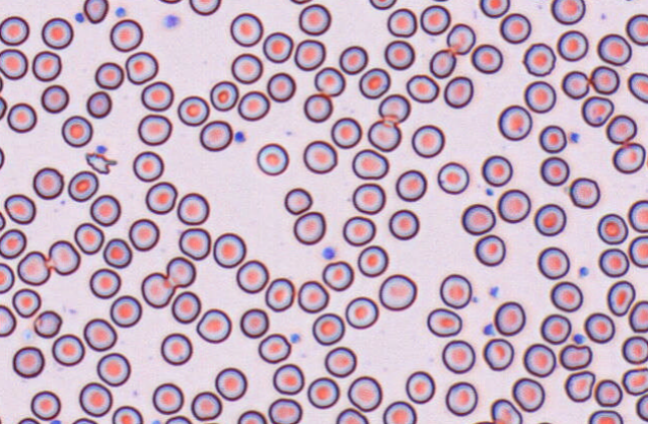PLT: (163, 14, 181, 29), (323, 245, 338, 260), (234, 129, 247, 145), (482, 322, 498, 335), (94, 143, 110, 155), (569, 130, 581, 146), (289, 333, 303, 346), (74, 12, 87, 24), (483, 186, 495, 199), (579, 264, 590, 278), (574, 333, 586, 345), (490, 286, 501, 298), (116, 8, 127, 19)
RBC: (378, 273, 416, 310), (347, 375, 382, 411), (497, 104, 532, 140), (196, 308, 231, 343), (78, 381, 112, 417), (212, 232, 246, 268), (511, 377, 545, 412), (141, 272, 174, 308), (96, 352, 130, 386), (83, 317, 117, 351), (522, 343, 556, 377), (441, 339, 475, 373), (109, 18, 143, 52), (229, 12, 263, 46), (17, 250, 50, 285), (497, 188, 530, 223), (302, 140, 337, 173), (48, 239, 80, 275), (596, 33, 632, 65), (351, 148, 388, 179), (344, 296, 378, 329), (214, 367, 247, 401), (522, 42, 555, 76), (445, 381, 477, 416), (439, 273, 471, 308), (306, 376, 339, 409), (311, 312, 344, 345), (51, 333, 84, 366), (178, 227, 211, 260), (109, 294, 142, 327), (125, 51, 158, 84), (176, 192, 209, 225), (533, 203, 566, 236), (411, 124, 444, 157), (367, 119, 401, 151), (461, 203, 495, 235), (493, 301, 525, 335), (236, 259, 268, 293), (137, 113, 171, 145), (426, 307, 462, 337), (145, 181, 177, 214), (160, 332, 192, 365), (612, 142, 645, 174), (482, 337, 514, 370), (199, 119, 232, 151), (352, 182, 385, 214), (550, 280, 583, 312), (293, 211, 325, 244), (537, 246, 569, 279), (298, 3, 331, 35), (437, 161, 469, 194), (256, 142, 288, 175), (524, 80, 556, 113), (32, 166, 64, 199), (581, 95, 614, 127), (606, 280, 635, 316), (272, 363, 304, 395), (12, 346, 44, 378), (358, 67, 390, 99), (41, 17, 73, 49), (230, 52, 262, 84), (556, 29, 588, 61), (237, 90, 270, 121), (357, 244, 388, 277), (128, 218, 159, 251), (297, 280, 328, 313), (342, 215, 375, 246), (140, 80, 173, 111), (257, 333, 291, 363), (264, 277, 294, 311), (152, 382, 183, 414), (324, 346, 356, 377), (321, 260, 353, 291), (395, 169, 426, 201), (474, 234, 505, 266), (596, 213, 628, 244), (89, 194, 120, 226), (481, 154, 512, 186), (499, 12, 531, 43), (388, 208, 419, 240), (177, 95, 209, 126), (262, 31, 293, 63), (61, 115, 92, 147), (171, 290, 201, 323), (405, 370, 435, 403), (406, 73, 439, 103), (443, 75, 473, 108), (165, 256, 196, 287), (89, 267, 120, 298), (540, 313, 571, 344), (67, 170, 98, 201), (569, 177, 600, 208), (584, 312, 615, 343), (330, 117, 361, 148), (4, 193, 35, 224), (294, 39, 325, 70), (132, 150, 163, 181), (378, 93, 410, 123), (74, 222, 104, 254), (190, 391, 222, 421), (313, 66, 345, 96), (470, 43, 502, 73), (102, 237, 132, 268), (11, 287, 41, 318), (598, 247, 629, 277), (606, 114, 637, 144), (31, 50, 61, 81), (386, 7, 417, 37), (384, 39, 414, 70), (420, 4, 450, 35), (267, 397, 302, 423), (30, 390, 60, 420), (539, 156, 569, 186), (239, 308, 269, 338), (7, 102, 37, 132), (209, 80, 238, 111), (446, 23, 475, 54), (550, 0, 585, 25), (0, 15, 29, 45), (266, 72, 295, 102), (303, 92, 332, 122), (338, 45, 368, 74), (0, 48, 28, 79), (590, 65, 619, 94), (40, 84, 69, 113), (94, 61, 124, 89), (594, 378, 622, 407), (561, 70, 589, 99), (538, 124, 566, 153), (429, 48, 456, 78), (490, 398, 522, 423), (382, 400, 416, 423), (0, 228, 26, 258), (284, 187, 312, 214), (621, 335, 647, 364), (622, 367, 647, 395), (86, 90, 111, 118), (626, 13, 647, 45), (627, 71, 647, 103), (628, 199, 647, 232), (628, 300, 647, 332), (628, 235, 647, 267), (111, 405, 143, 423), (83, 0, 108, 23), (479, 0, 509, 18), (0, 304, 16, 337), (335, 407, 368, 423), (188, 0, 221, 15), (588, 409, 623, 423), (0, 262, 14, 293), (236, 409, 266, 423), (636, 393, 647, 421), (368, 0, 396, 10), (164, 415, 192, 423), (0, 95, 7, 120), (71, 417, 98, 423), (17, 417, 39, 423), (0, 210, 6, 230), (0, 146, 5, 169), (469, 420, 495, 424), (157, 0, 182, 4), (289, 0, 313, 4), (199, 420, 221, 424), (148, 419, 162, 424), (48, 419, 62, 424), (532, 421, 555, 424), (0, 74, 3, 92), (429, 0, 450, 2)
Schistocyte: (566, 371, 595, 403), (560, 344, 594, 371), (35, 311, 63, 338), (86, 153, 120, 175)
